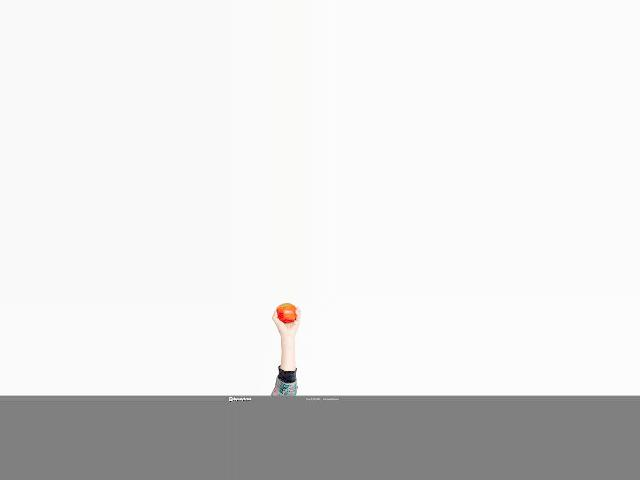tomato: (276, 302, 297, 323)
